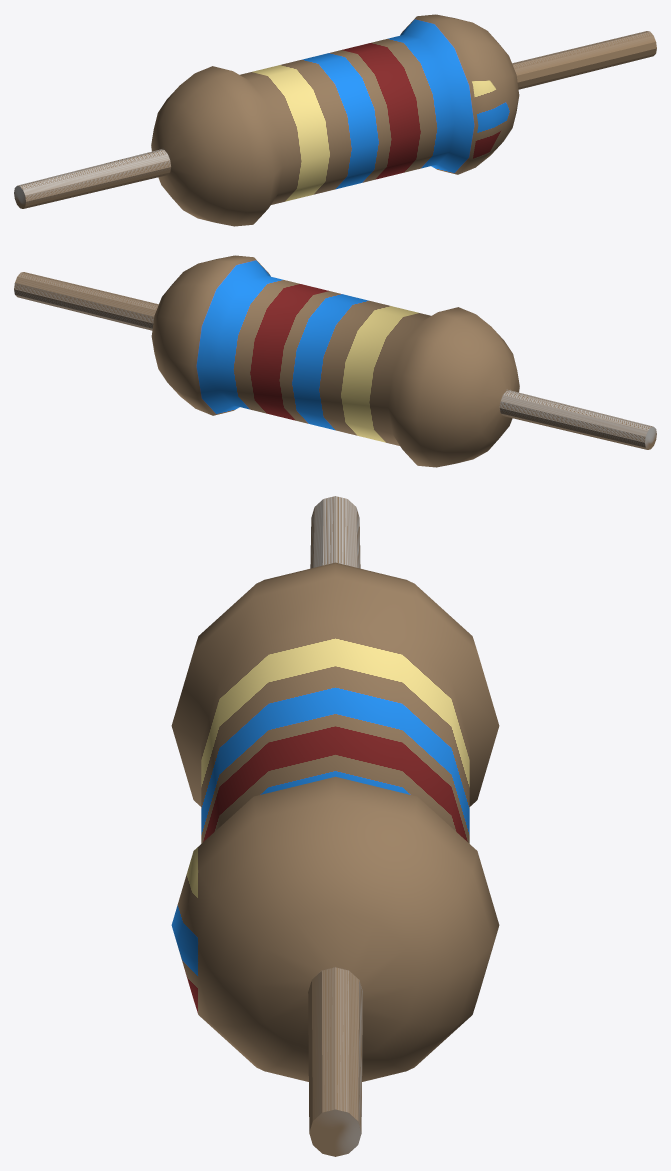
File: resistor_pronto.FBX
The picture shows the model from 3 angles, top to bottom: view 1: azimuth 30°, elevation 25°; view 2: azimuth 150°, elevation 25°; view 3: azimuth 270°, elevation 25°; orthographic projection. The views are drawn at different scales.
Parts seen in each view (by area): view 1: Capsule001; view 2: Capsule001; view 3: Capsule001.
Boxes of the visible parts, x1,y1,x2,y2 form: Capsule001: (14,14,656,226); Capsule001: (14,255,656,467); Capsule001: (171,496,499,1156).
Bounding box in the file's own units: 218 × 49.13 × 49.13.
1 material, 1 textured.
